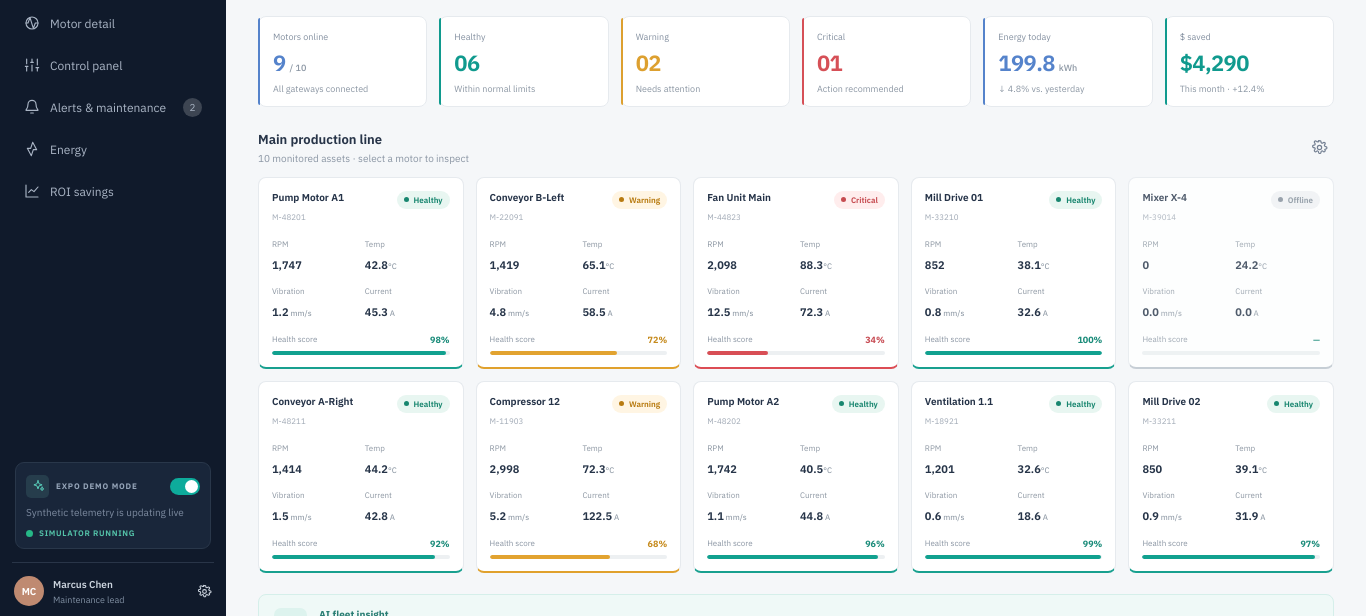
it: fault injection updates the alert feed in demo mode
This screenshot has width=1366, height=616.
Click the button "Motor detail".
click(113, 23)  # box [13,4,213,42]
(page scrolled)
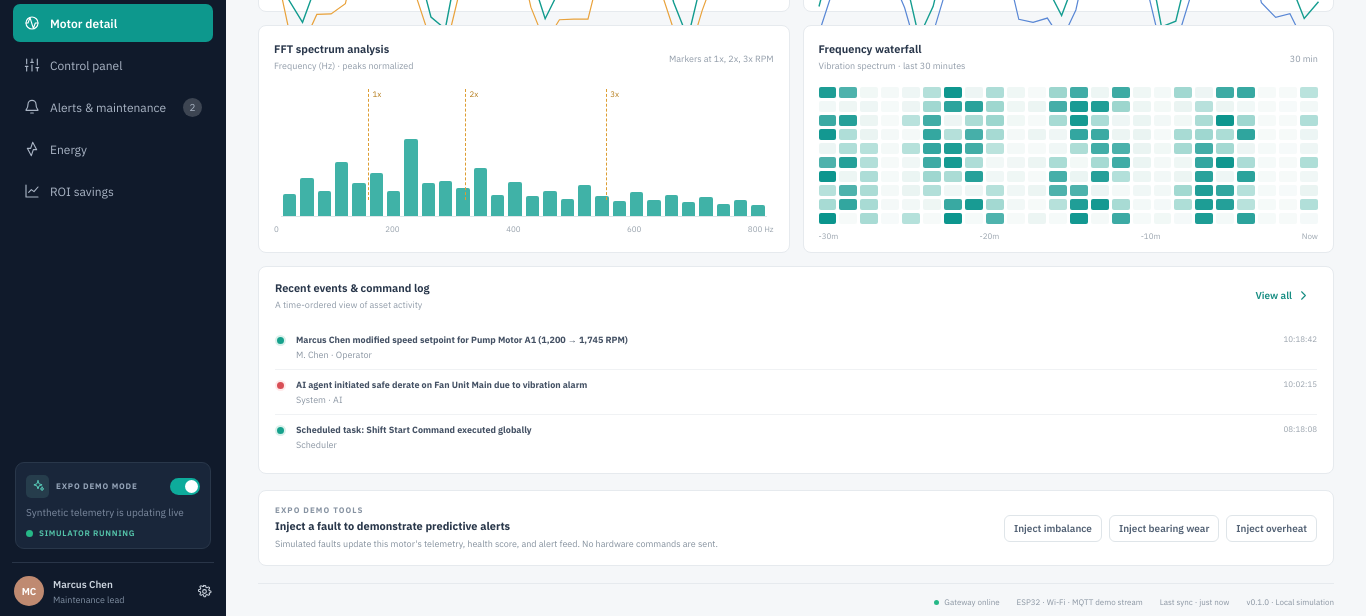
Click the button "Inject overheat".
click(1272, 528)  # box [1226,515,1317,542]
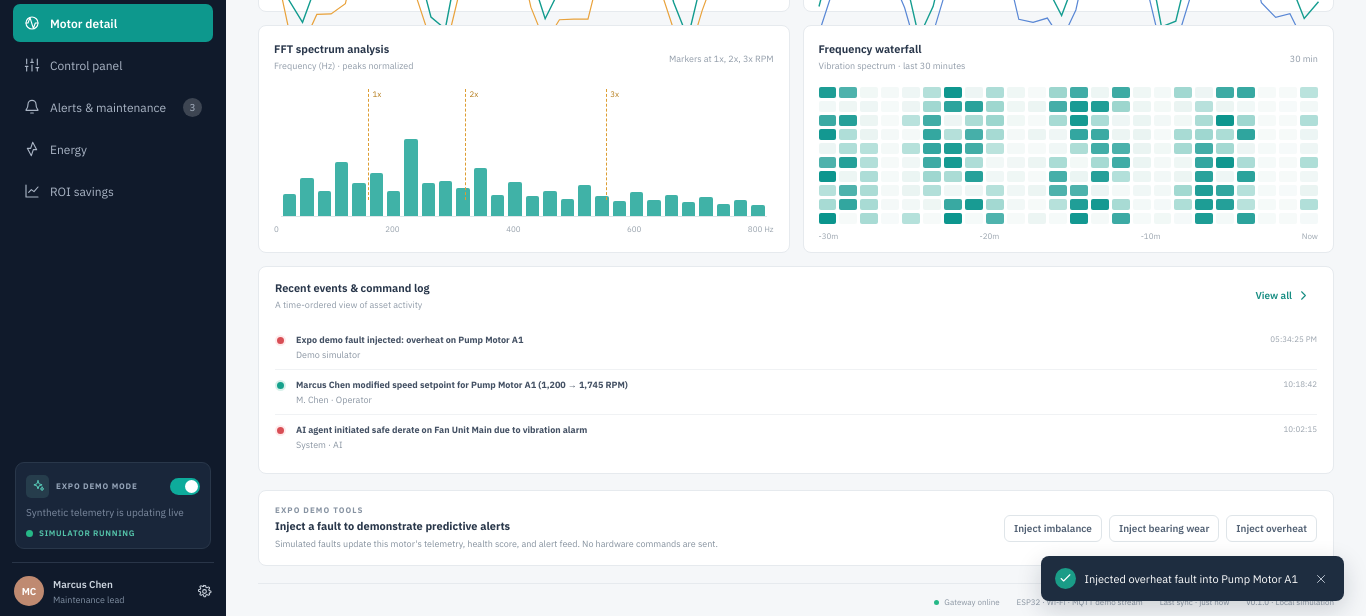
Click the button "Alerts & maintenance 3".
click(113, 107)  # box [13,88,213,126]
(page scrolled)
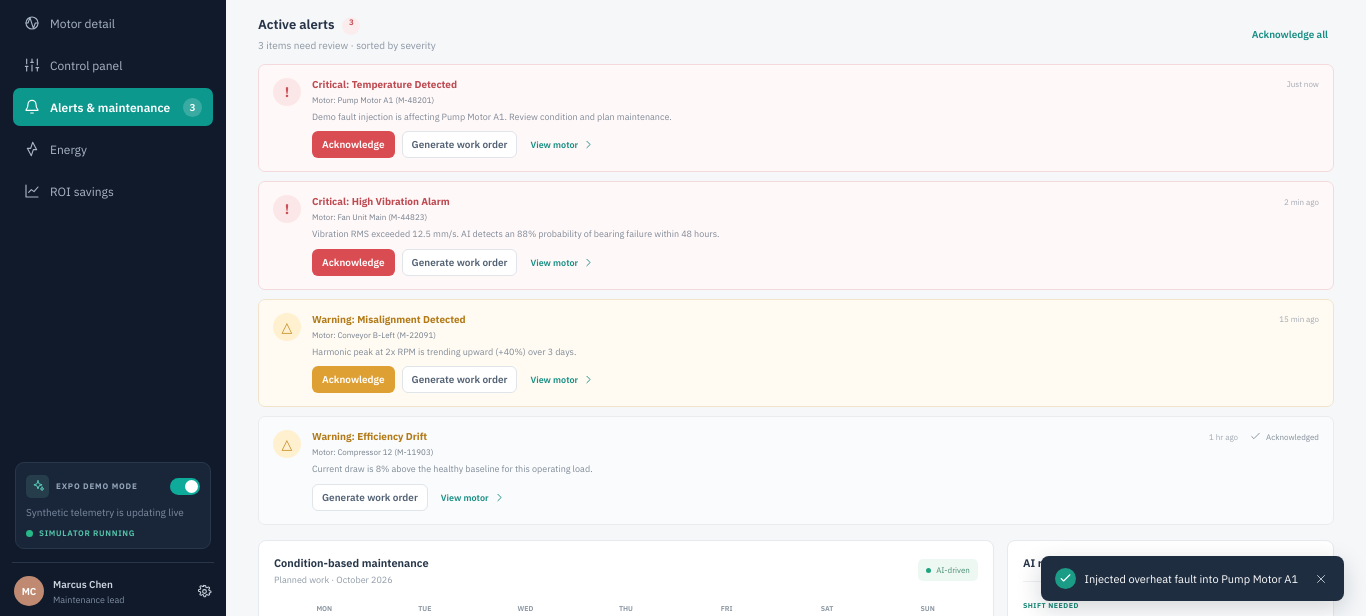
Now the text "critical: Temperature detected" is shown, box [312,78,457,91]
